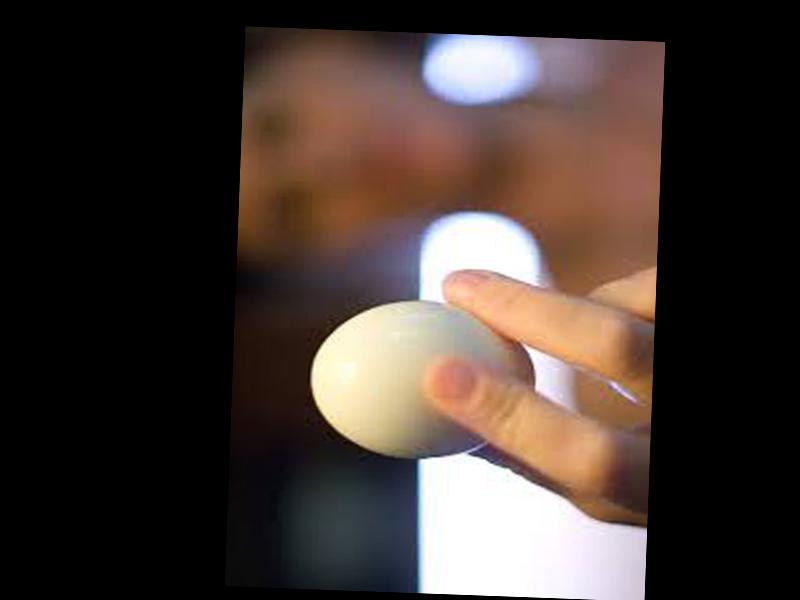Eggs: (308, 293, 538, 460)
